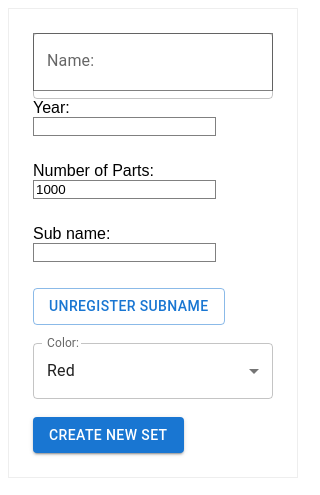
SetForm3 › should reset form after user submit
Type "name 1" into the field labelled "Name:" at [153, 62], box [33,33,273,91]
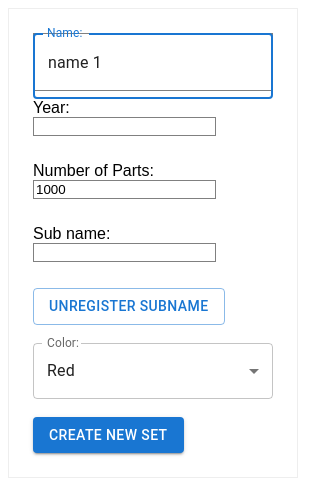
Type "2022" into the field labelled "Year:" at [124, 126], box [33,117,216,136]
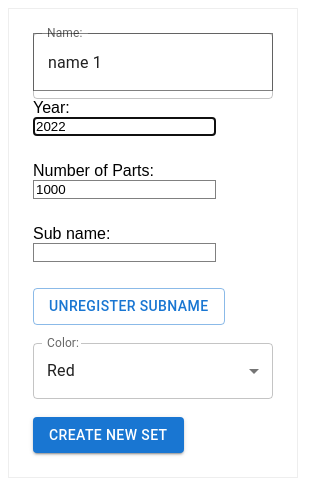
Replace the text in the field labelled "Number of Parts:" with "123" at [124, 190], box [33,180,216,199]
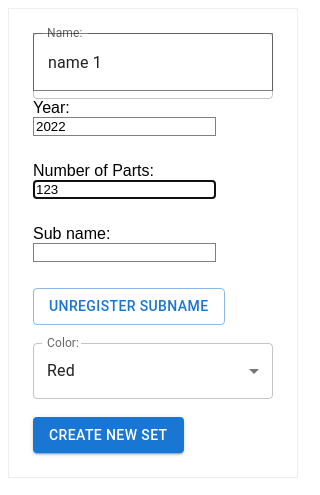
Click the button "Create new set" at [108, 435], box [33,416,184,453]
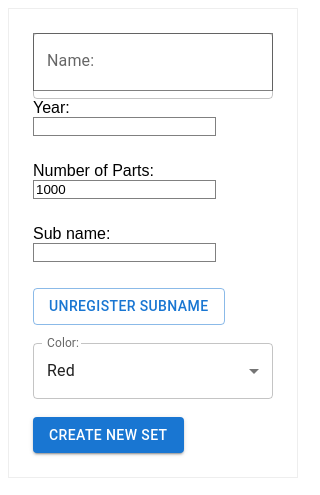
expect the field labelled "Name:" is empty: met, box [33,33,273,91]
expect the field labelled "Year:" is empty: met, box [33,117,216,136]
expect the field labelled "Number of Parts:" holds "1000": met, box [33,180,216,199]
